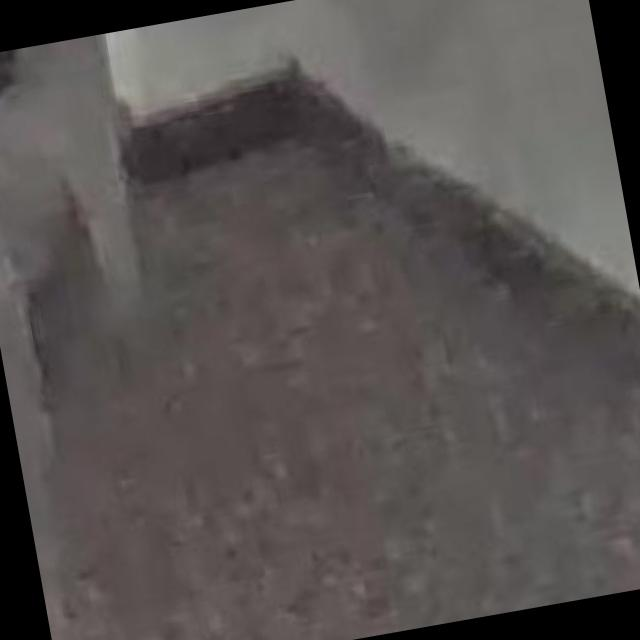Guns: (0, 41, 91, 242)
